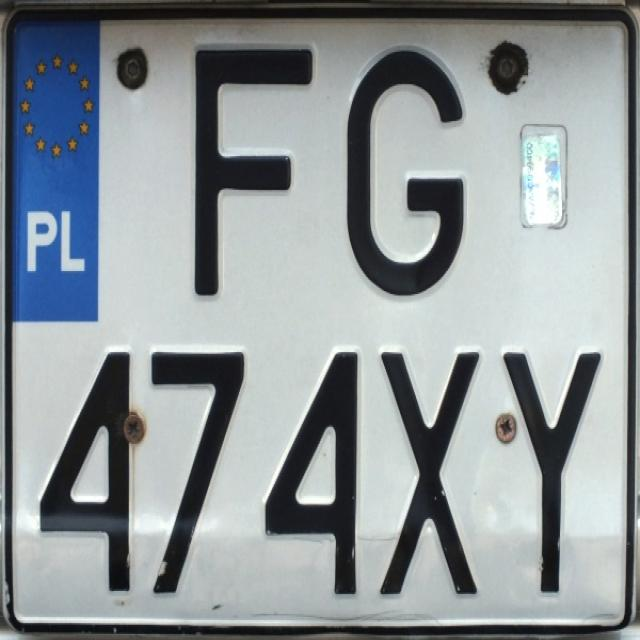pl_license_plate: (13, 18, 622, 622)
